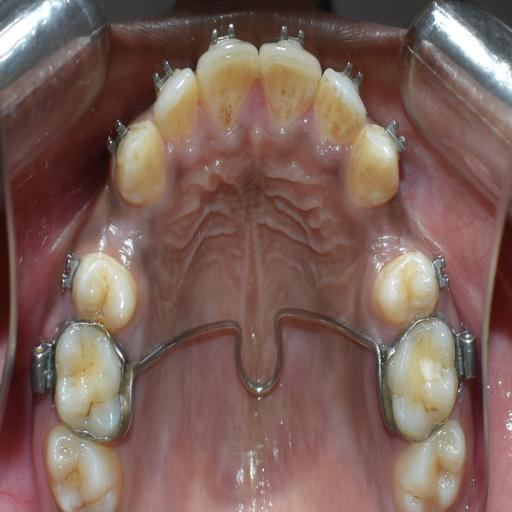correct_brace: (62, 249, 138, 330), (372, 252, 454, 324), (103, 103, 135, 153), (275, 15, 313, 55), (338, 51, 365, 100), (151, 47, 178, 91), (208, 21, 239, 58), (382, 116, 408, 158)
incorrect_brace: (321, 54, 366, 154), (152, 50, 198, 139), (60, 246, 82, 296), (429, 250, 453, 294)
